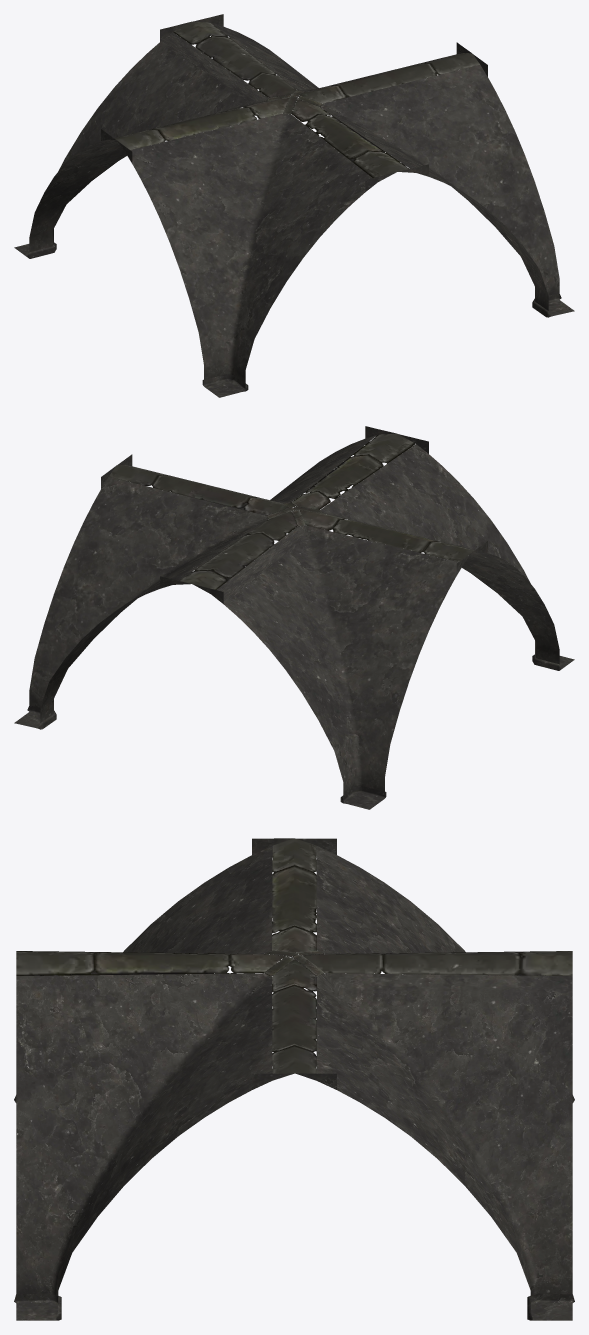
3 views of the same model, one above another, from view 1: azimuth 30°, elevation 25°; view 2: azimuth 150°, elevation 25°; view 3: azimuth 270°, elevation 25° (orthographic). The views are drawn at different scales.
Parts seen in each view (by area): view 1: SM_Greathall_Vault_Ceiling_7x7_01_LOD0; view 2: SM_Greathall_Vault_Ceiling_7x7_01_LOD0; view 3: SM_Greathall_Vault_Ceiling_7x7_01_LOD0.
Boxes of the visible parts, box(x1,y1,x2,y2) form: SM_Greathall_Vault_Ceiling_7x7_01_LOD0: box(14, 14, 574, 397); SM_Greathall_Vault_Ceiling_7x7_01_LOD0: box(14, 426, 574, 809); SM_Greathall_Vault_Ceiling_7x7_01_LOD0: box(14, 838, 574, 1320).
Bounding box in the file's own units: 7.06 × 3.44 × 7.06.
Materials: 2 (2 with a texture image).
